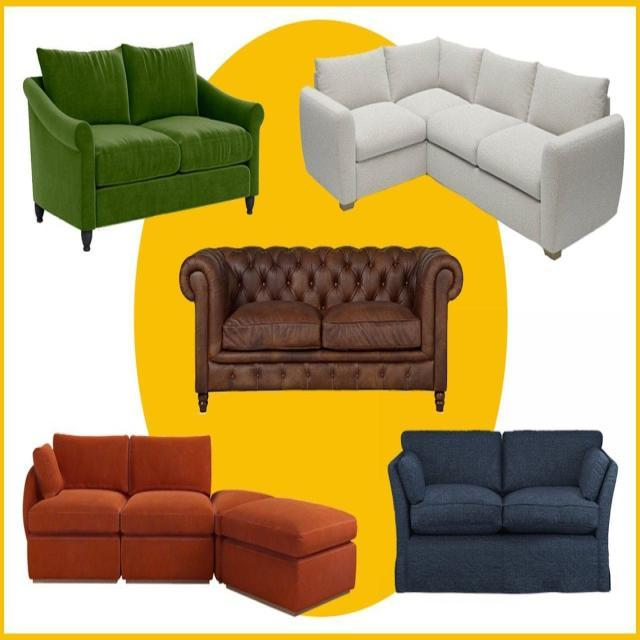sofa: (300, 34, 624, 260), (22, 40, 264, 251), (178, 244, 464, 414), (388, 428, 618, 594), (22, 432, 215, 584)
